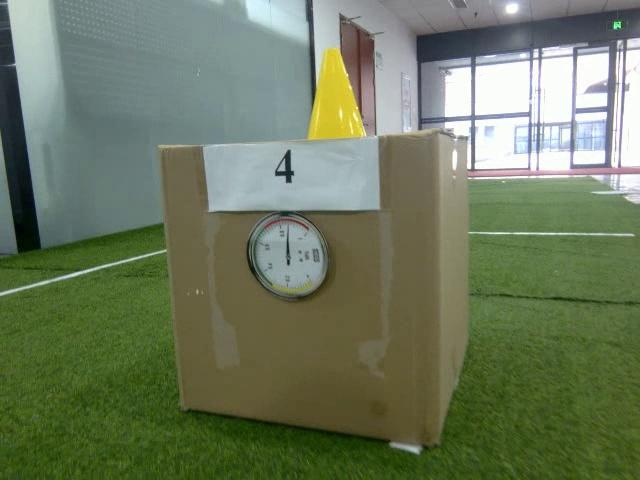4: (274, 148, 298, 184)
Dashboard: (245, 214, 331, 301)
ssi: (310, 248, 321, 264)
yellow_barrel: (311, 47, 368, 138)
